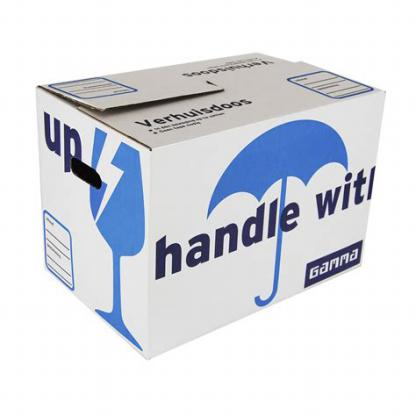box: (34, 50, 386, 361)
